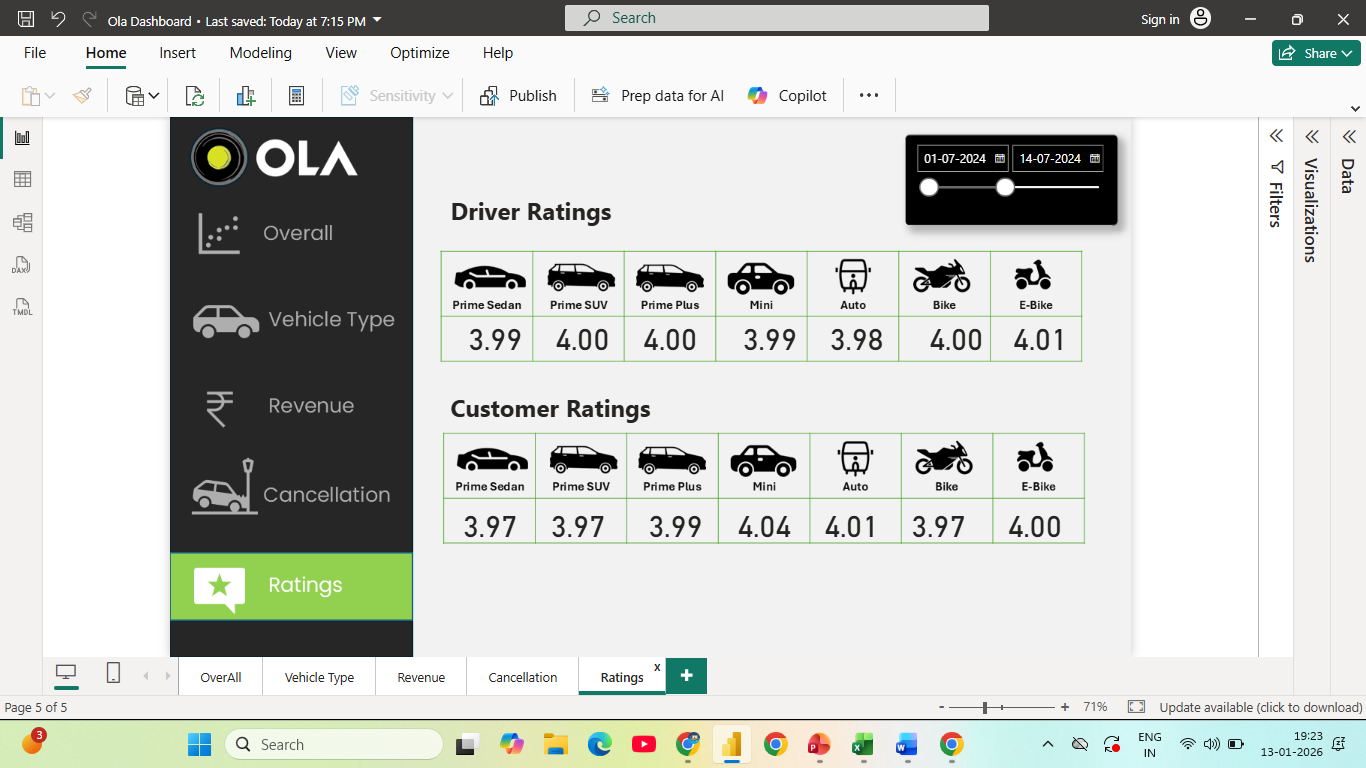

This screenshot's page, from the dashboard's own definition file:
{"tool":"powerbi","page":{"name":"Ratings","canvas":[1280,720],"ordinal":4},"visuals":[{"type":"actionButton","box":[0,217.3,324.5,104.4],"z":0},{"type":"actionButton","box":[0,340,324.5,91.7],"z":1000},{"type":"actionButton","box":[0,451.5,324.5,88.9],"z":2000},{"type":"actionButton","box":[0,121.3,324.5,83.2],"z":3000},{"type":"card","fields":{"Values":["Avg(July.Driver_Ratings)"]},"box":[375.1,264.5,115.7,56],"z":4000},{"type":"card","fields":{"Values":["Avg(July.Driver_Ratings)"]},"box":[475.9,264.5,147.4,56],"z":5000},{"type":"card","fields":{"Values":["Avg(July.Driver_Ratings)"]},"box":[608.4,264.5,115.7,56],"z":6000},{"type":"card","fields":{"Values":["Avg(July.Driver_Ratings)"]},"box":[740.9,264.5,115.7,56],"z":7000},{"type":"card","fields":{"Values":["Avg(July.Driver_Ratings)"]},"box":[856.6,264.5,115.7,56],"z":8000},{"type":"card","fields":{"Values":["Avg(July.Driver_Ratings)"]},"box":[972.3,264.5,149.3,56],"z":9000},{"type":"card","fields":{"Values":["Avg(July.Driver_Ratings)"]},"box":[1101.1,264.5,115.7,56],"z":10000},{"type":"card","fields":{"Values":["Avg(July.Customer_Rating)"]},"box":[367.6,513.2,115.7,56],"z":11000},{"type":"card","fields":{"Values":["Avg(July.Customer_Rating)"]},"box":[485.2,513.2,115.7,56],"z":12000},{"type":"card","fields":{"Values":["Avg(July.Customer_Rating)"]},"box":[615.9,513.2,115.7,56],"z":13000},{"type":"card","fields":{"Values":["Avg(July.Customer_Rating)"]},"box":[733.4,513.2,115.7,56],"z":14000},{"type":"card","fields":{"Values":["Avg(July.Customer_Rating)"]},"box":[849.1,513.2,115.7,56],"z":15000},{"type":"card","fields":{"Values":["Avg(July.Customer_Rating)"]},"box":[964.8,513.2,115.7,56],"z":16000},{"type":"card","fields":{"Values":["Avg(July.Customer_Rating)"]},"box":[1093.6,513.2,115.7,56],"z":17000},{"type":"textbox","box":[367.6,97,248.2,65.3],"z":18000},{"type":"textbox","box":[367.6,360.2,291.1,57.9],"z":19000},{"type":"slicer","fields":{"Values":["July.Date"]},"box":[979.8,24.3,281.8,119.4],"z":19001}]}

Visuals, with their boxes on the page's 1280x720 design canvas (x1, y1, x2, y2). These are canvas units, not pixel positions in the 1366x768 screenshot, which may show the page scaled, cropped or inside an application window:
actionButton: 0/217/324/322
actionButton: 0/340/324/432
actionButton: 0/452/324/540
actionButton: 0/121/324/204
card - Avg(July.Driver_Ratings): 375/264/491/320
card - Avg(July.Driver_Ratings): 476/264/623/320
card - Avg(July.Driver_Ratings): 608/264/724/320
card - Avg(July.Driver_Ratings): 741/264/857/320
card - Avg(July.Driver_Ratings): 857/264/972/320
card - Avg(July.Driver_Ratings): 972/264/1122/320
card - Avg(July.Driver_Ratings): 1101/264/1217/320
card - Avg(July.Customer_Rating): 368/513/483/569
card - Avg(July.Customer_Rating): 485/513/601/569
card - Avg(July.Customer_Rating): 616/513/732/569
card - Avg(July.Customer_Rating): 733/513/849/569
card - Avg(July.Customer_Rating): 849/513/965/569
card - Avg(July.Customer_Rating): 965/513/1080/569
card - Avg(July.Customer_Rating): 1094/513/1209/569
textbox: 368/97/616/162
textbox: 368/360/659/418
slicer - July.Date: 980/24/1262/144
